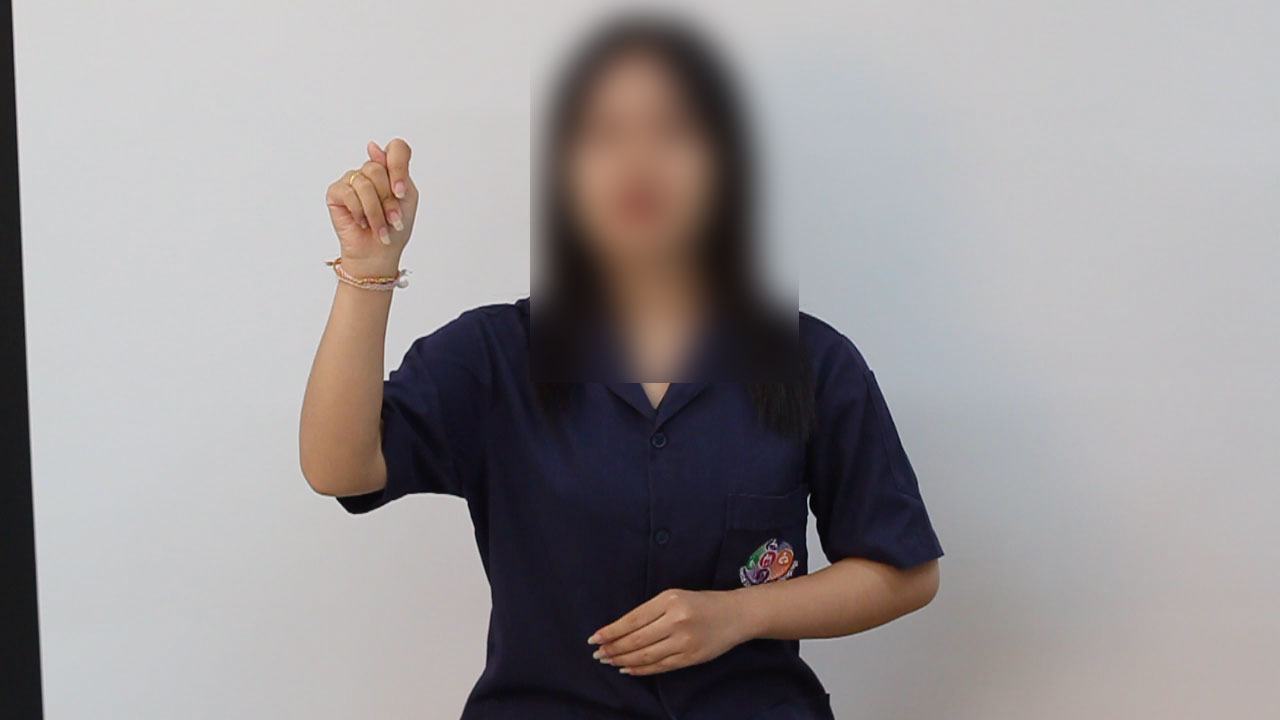tor: (303, 121, 447, 270)
